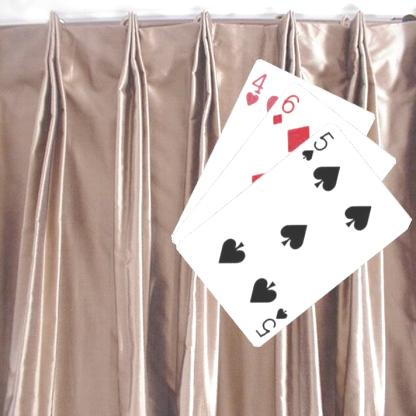4H: (242, 70, 269, 108)
5S: (252, 304, 290, 338), (299, 128, 336, 162)
6D: (270, 91, 301, 126)
